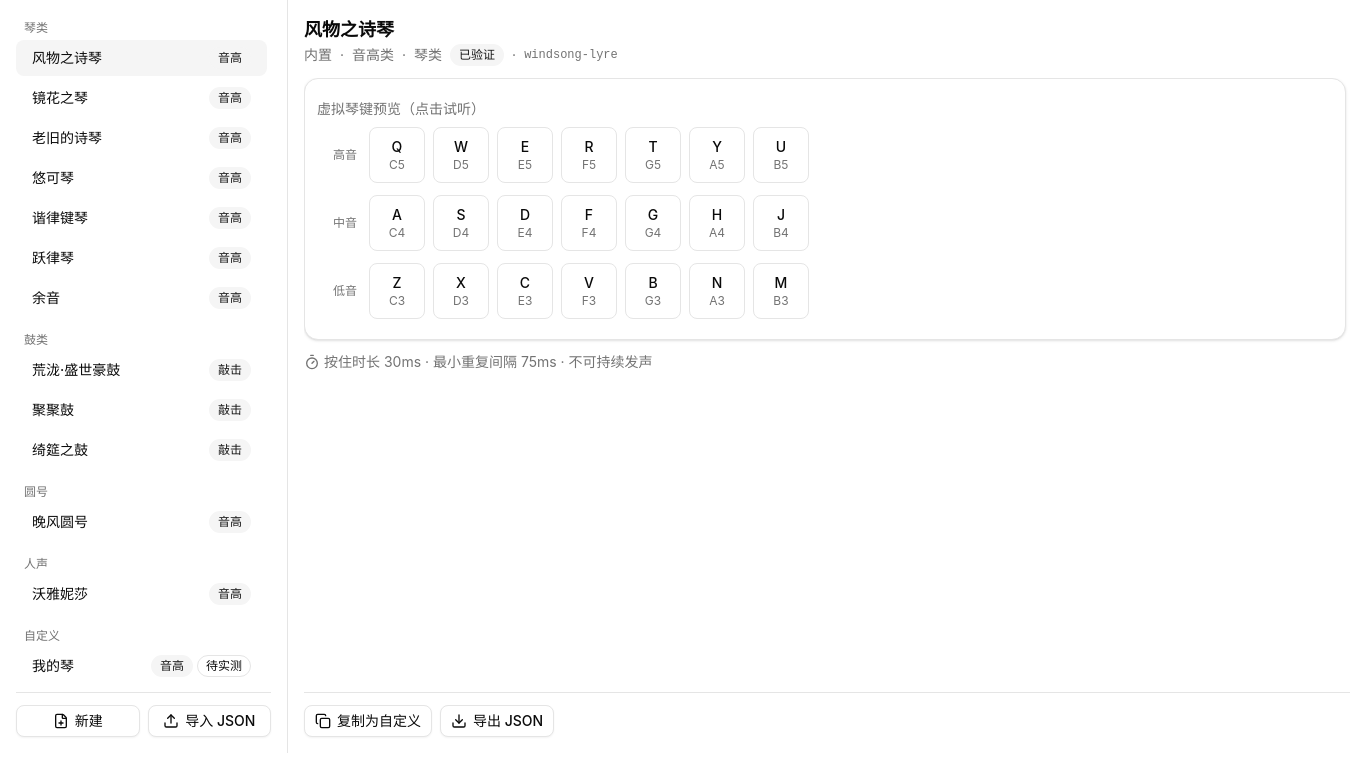
Test: InstrumentsPage 列表与详情 › 删除自定义乐器需要确认
This screenshot has width=1366, height=768.
Click the text "我的琴": (53,666) x1=32 y1=656 x2=74 y2=676
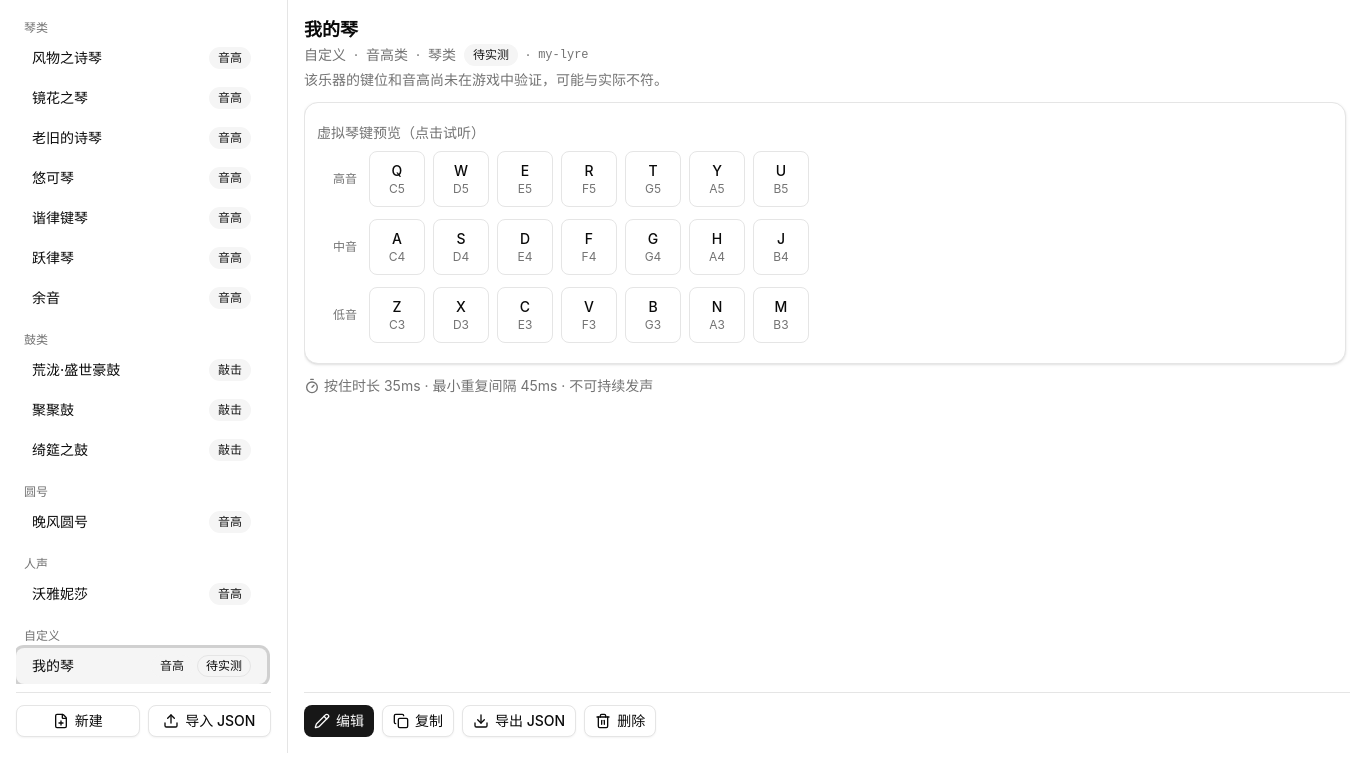
Click the button "删除": (620,721) x1=584 y1=705 x2=656 y2=737
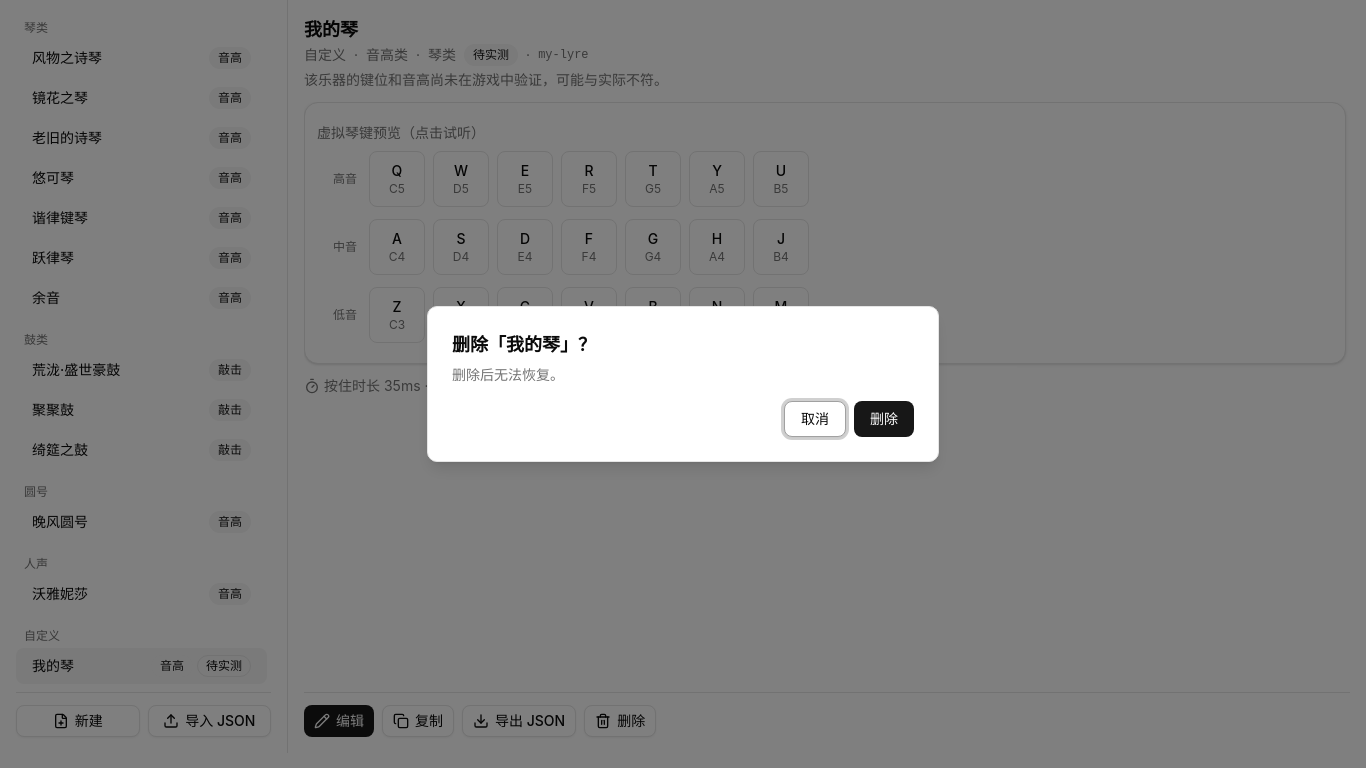
Result: the dialog "删除「我的琴」？" is shown at x1=427 y1=306 x2=939 y2=462
Click the button "取消": (815,419) x1=784 y1=401 x2=846 y2=437
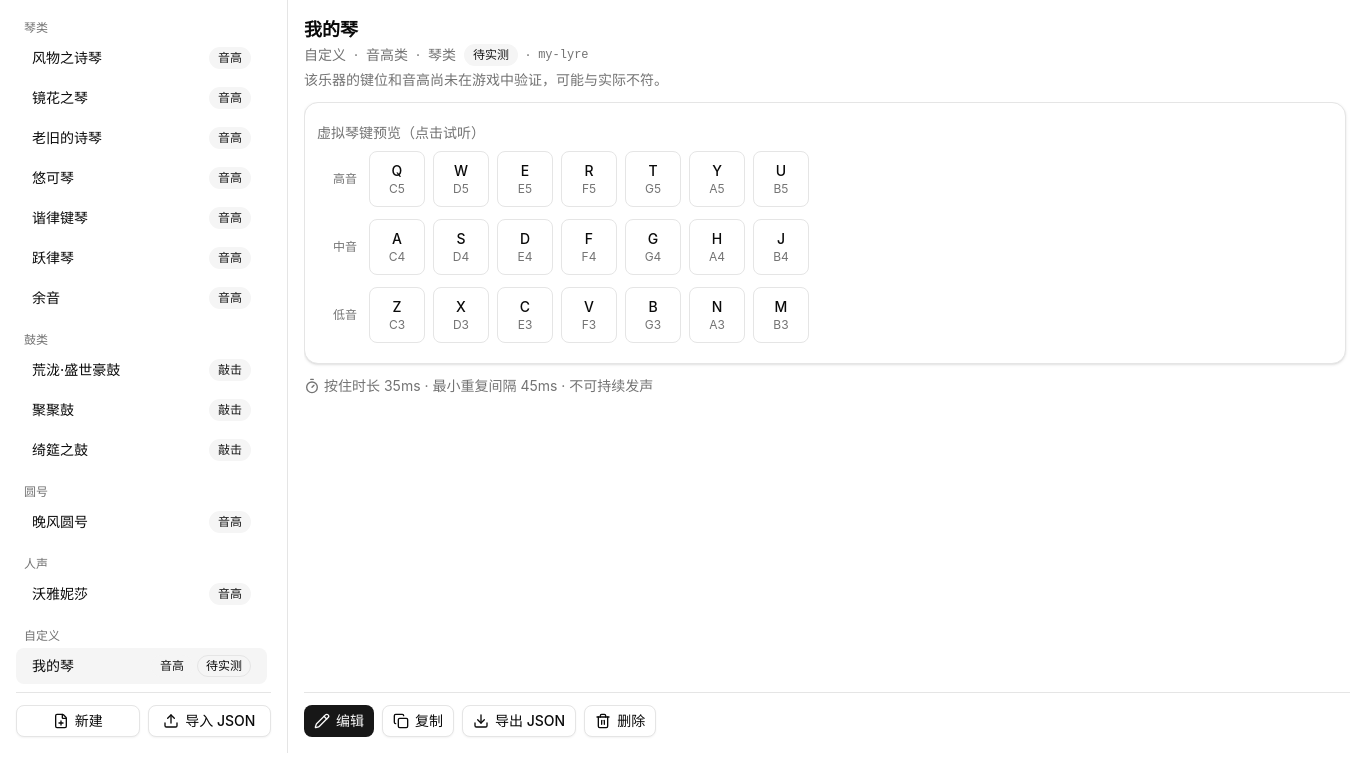
Expected: the text "我的琴" is shown 2 times, x1=32 y1=656 x2=74 y2=676; x1=304 y1=19 x2=358 y2=40
Click the button "删除": (620,721) x1=584 y1=705 x2=656 y2=737
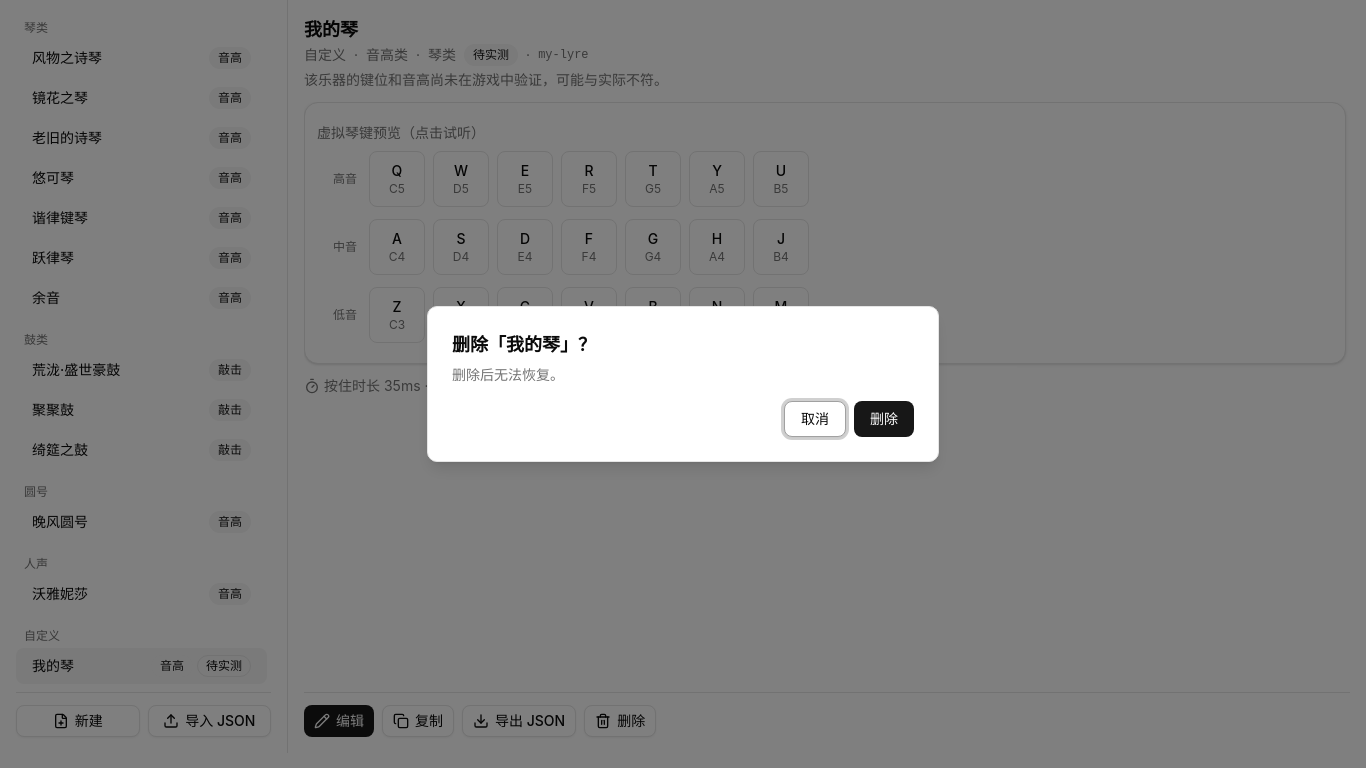
Click the button "删除": (884,419) x1=854 y1=401 x2=914 y2=437
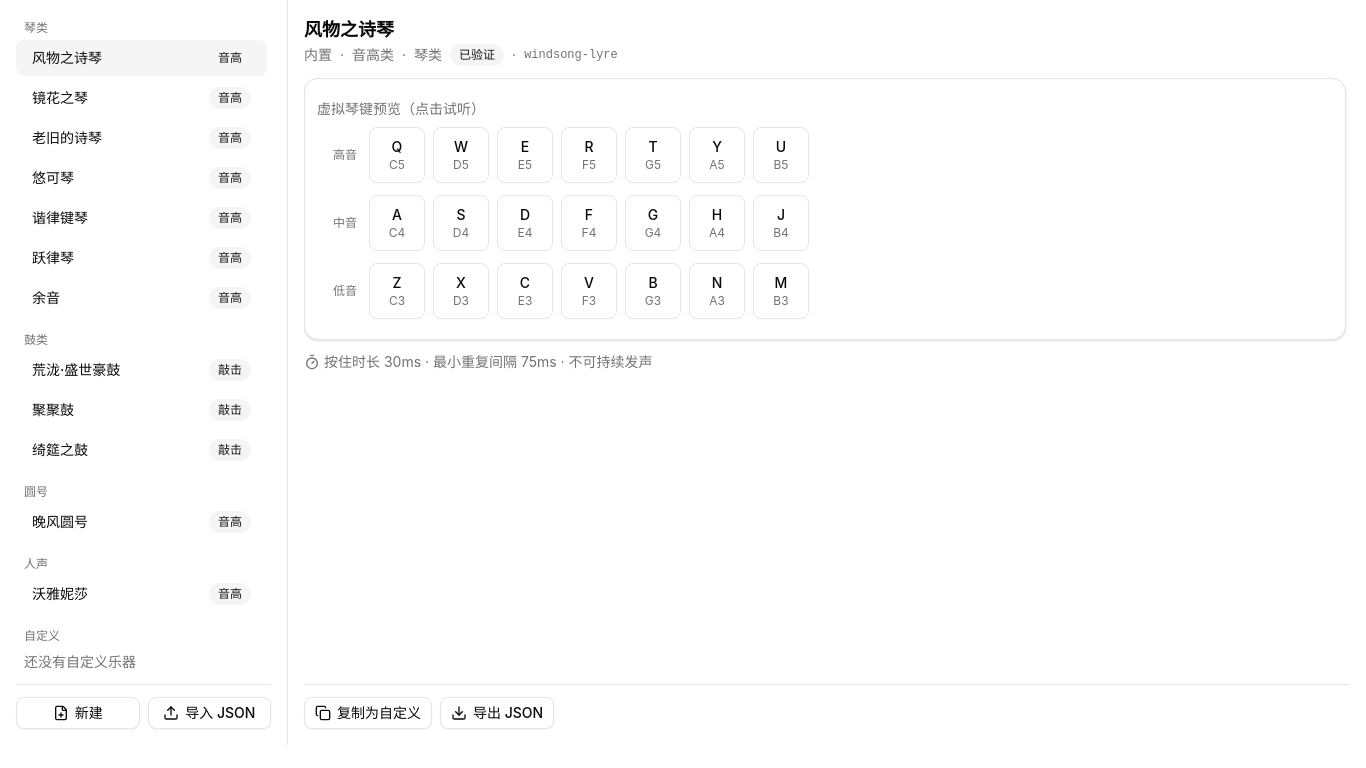
Result: the text "还没有自定义乐器" is shown at x1=24 y1=653 x2=136 y2=670
